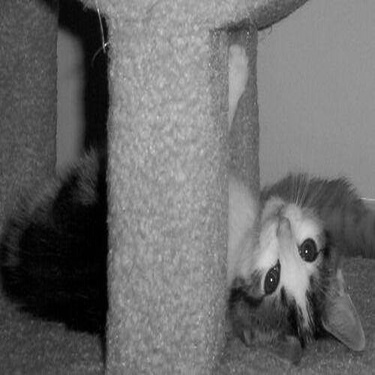cat: (1, 26, 373, 370)
